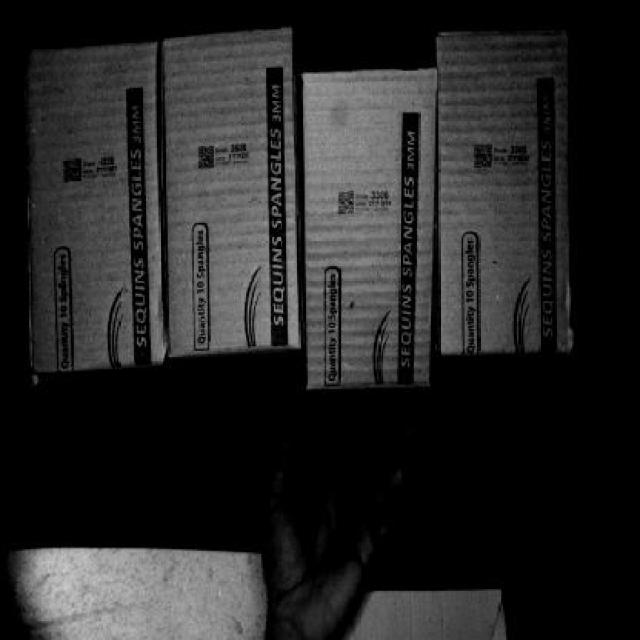cardboxes: (160, 32, 305, 358), (440, 23, 574, 351), (30, 40, 162, 360), (305, 77, 438, 385)
